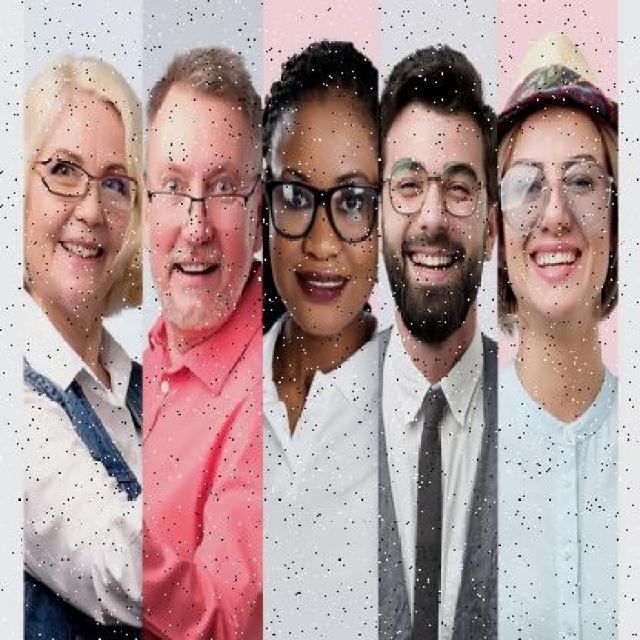mask: (500, 154, 616, 240), (267, 170, 378, 247), (36, 143, 139, 220), (384, 156, 486, 224), (143, 180, 252, 236)
